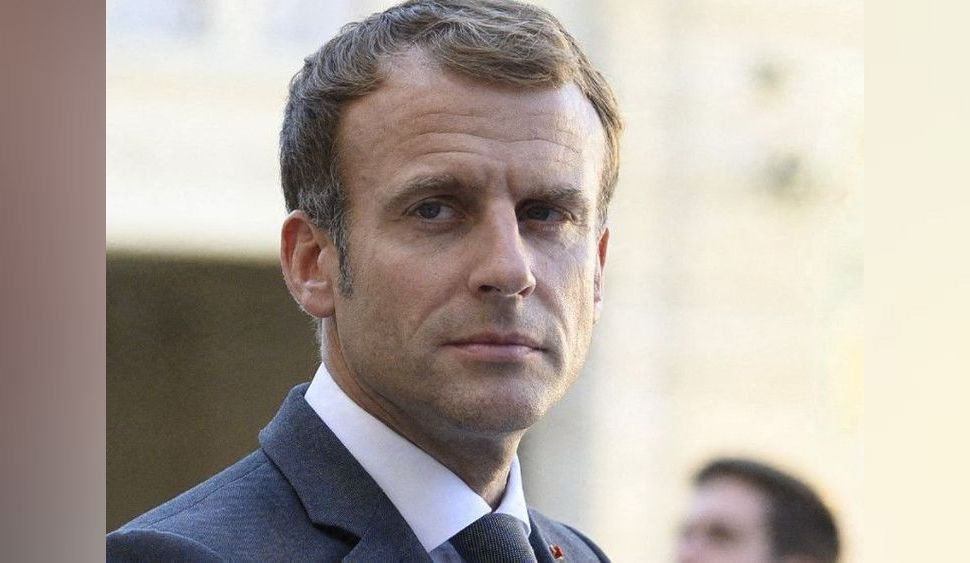without_mask: (317, 66, 597, 421)
